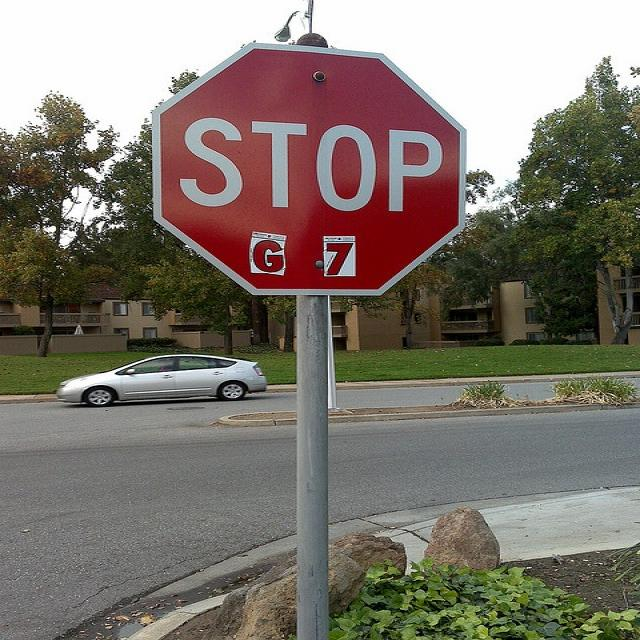car: (55, 350, 264, 403)
pole: (284, 33, 356, 637)
